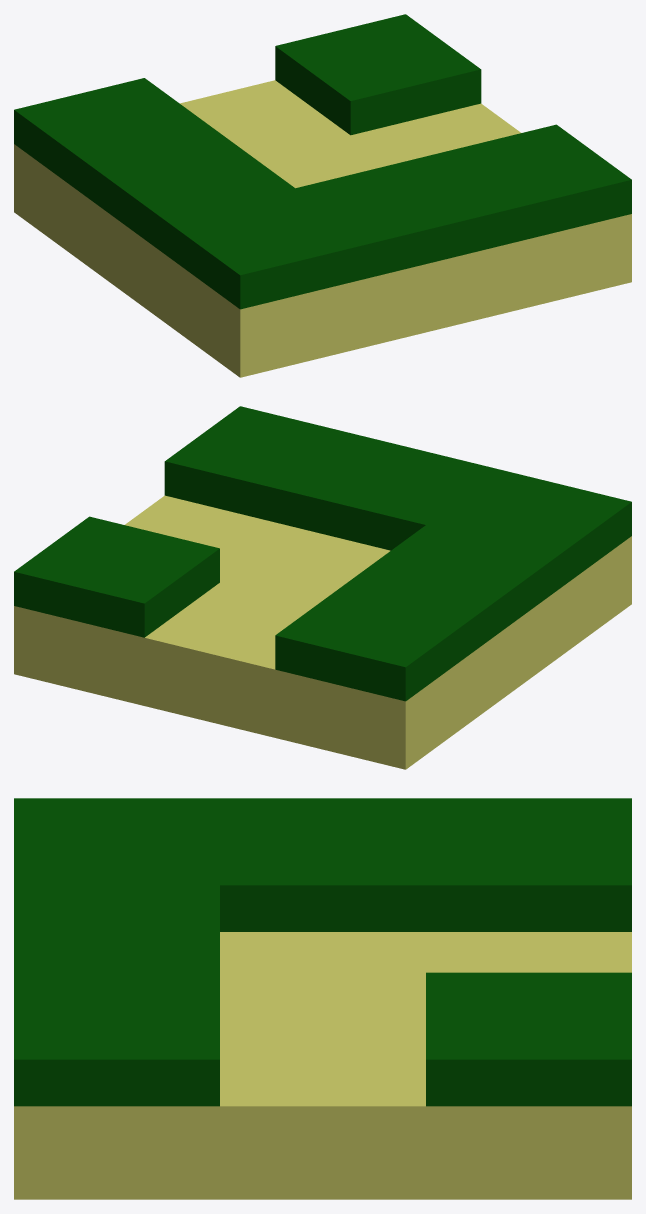
The model's file is Left.fbx.
3 renders of one model, top to bottom at view 1: azimuth 30°, elevation 25°; view 2: azimuth 150°, elevation 25°; view 3: azimuth 270°, elevation 25°, orthographic. The views are drawn at different scales.
Visible parts, largest first — view 1: Cube; view 2: Cube; view 3: Cube.
Boxes of the visible parts, bbox=[...] form: Cube: bbox=[14, 14, 631, 377]; Cube: bbox=[14, 406, 631, 769]; Cube: bbox=[14, 798, 631, 1199].
Bounding box in the file's own units: 1200 × 300 × 1200.
